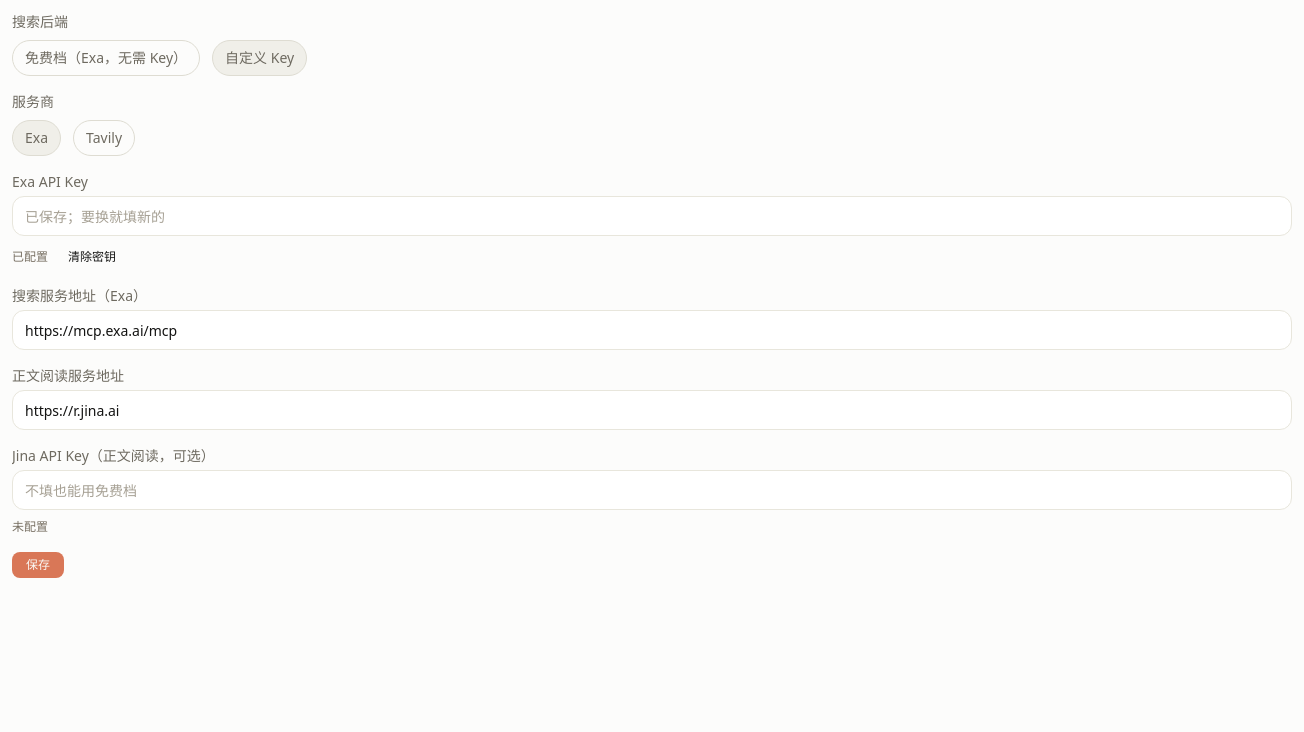
内置插件「联网搜索」的设置面 › 已存的 Key：显示"已配置"与「清除密钥」，点了走 search 通道并回到"未配置"
Check: the text with test id "web-search-exa-key-status" reads "已配置", box [12, 248, 48, 265]
Click the button with test id "web-search-exa-clear": click(92, 257) [60, 244, 124, 270]
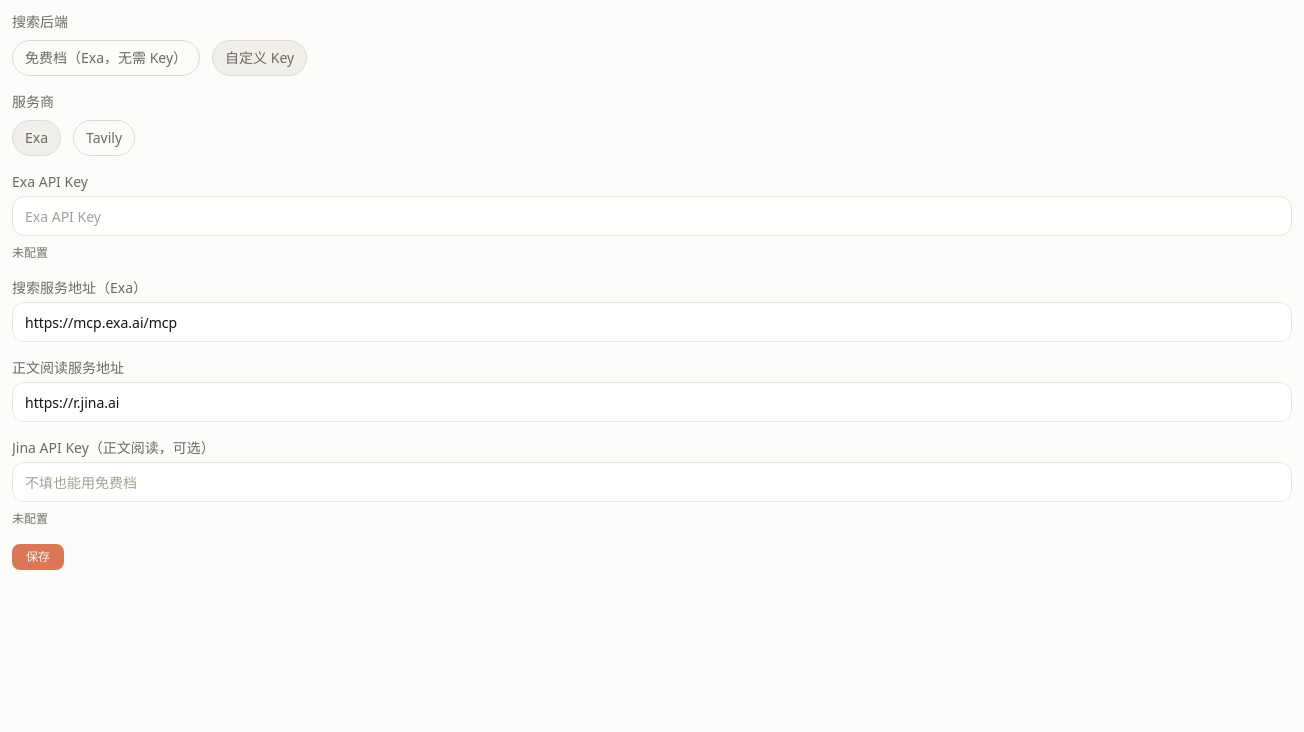
Check: the text with test id "web-search-exa-key-status" reads "未配置", box [12, 244, 48, 261]
